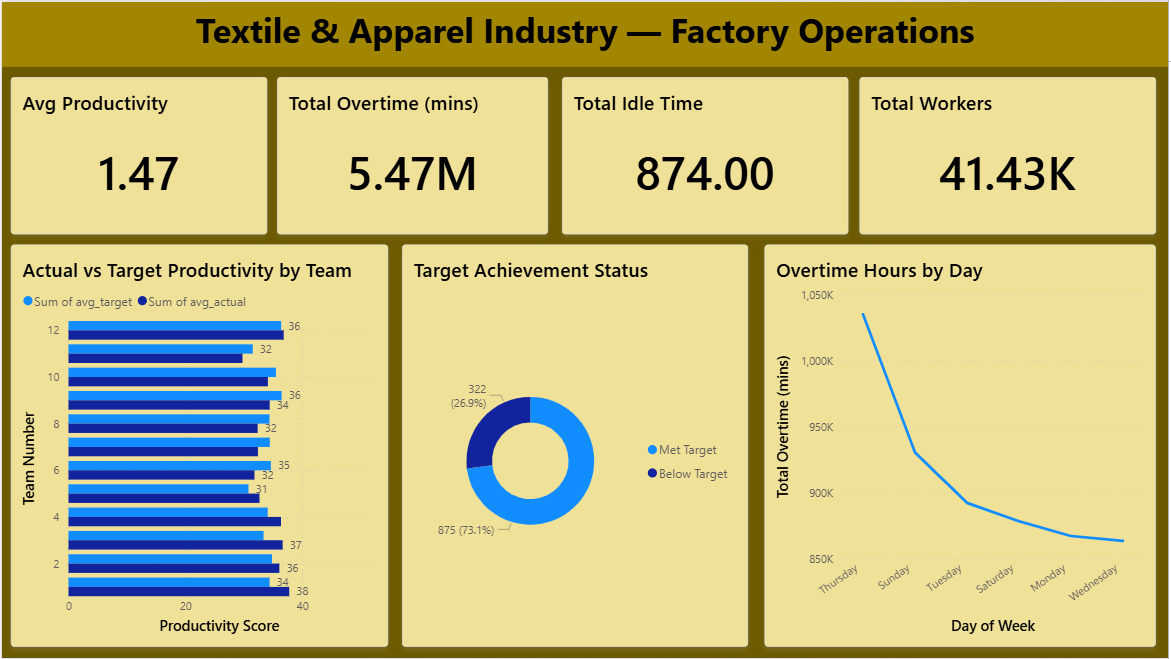

What the dashboard file says about the page in this screenshot:
{"tool":"powerbi","page":{"name":"Factory Operations","canvas":[1280,720],"ordinal":0},"visuals":[{"type":"card","title":"Avg Productivity","fields":{"Values":["Sum(vw_department_summary.avg_productivity)"]},"box":[9.6,82.3,281.3,172.9],"z":0},{"type":"card","title":"Total Overtime (mins)","fields":{"Values":["Sum(vw_team_productivity.total_overtime)"]},"box":[301.9,82.3,297.8,172.9],"z":1000},{"type":"card","title":"Total Workers","fields":{"Values":["Sum(vw_team_productivity.total_workers)"]},"box":[941.3,82.3,325.2,172.9],"z":2000},{"type":"card","title":"Total Idle Time","fields":{"Values":["Sum(vw_team_productivity.total_idle_time)"]},"box":[614.8,82.3,314.2,172.9],"z":3000},{"type":"clusteredBarChart","title":"Actual vs Target Productivity by Team","fields":{"Category":["vw_team_productivity.team"],"Y":["Sum(vw_team_productivity.avg_target)","Sum(vw_team_productivity.avg_actual)"]},"box":[9.6,266.2,414.4,441.9],"z":4000},{"type":"donutChart","title":"Target Achievement Status","fields":{"Category":["vw_productivity_vs_target.target_status"],"Y":["CountNonNull(vw_productivity_vs_target.target_status)"]},"box":[439.1,266.2,380.1,441.9],"z":5000},{"type":"lineChart","title":"Overtime Hours by Day","fields":{"Category":["vw_team_productivity.day"],"Y":["Sum(vw_team_productivity.total_overtime)"]},"box":[837.1,266.2,429.5,441.9],"z":6000},{"type":"textbox","box":[0,0,1280.3,71.4],"z":6001}]}

Visuals, with their boxes in screenshot pixels (x1, y1, x2, y2), scaled from the page's 1280x720 canvas onto the 1171x659 screenshot:
"Avg Productivity" card: 9, 75, 266, 234
"Total Overtime (mins)" card: 276, 75, 549, 234
"Total Workers" card: 861, 75, 1159, 234
"Total Idle Time" card: 562, 75, 850, 234
"Actual vs Target Productivity by Team" clusteredBarChart: 9, 244, 388, 648
"Target Achievement Status" donutChart: 402, 244, 749, 648
"Overtime Hours by Day" lineChart: 766, 244, 1159, 648
textbox: 0, 0, 1170, 65
